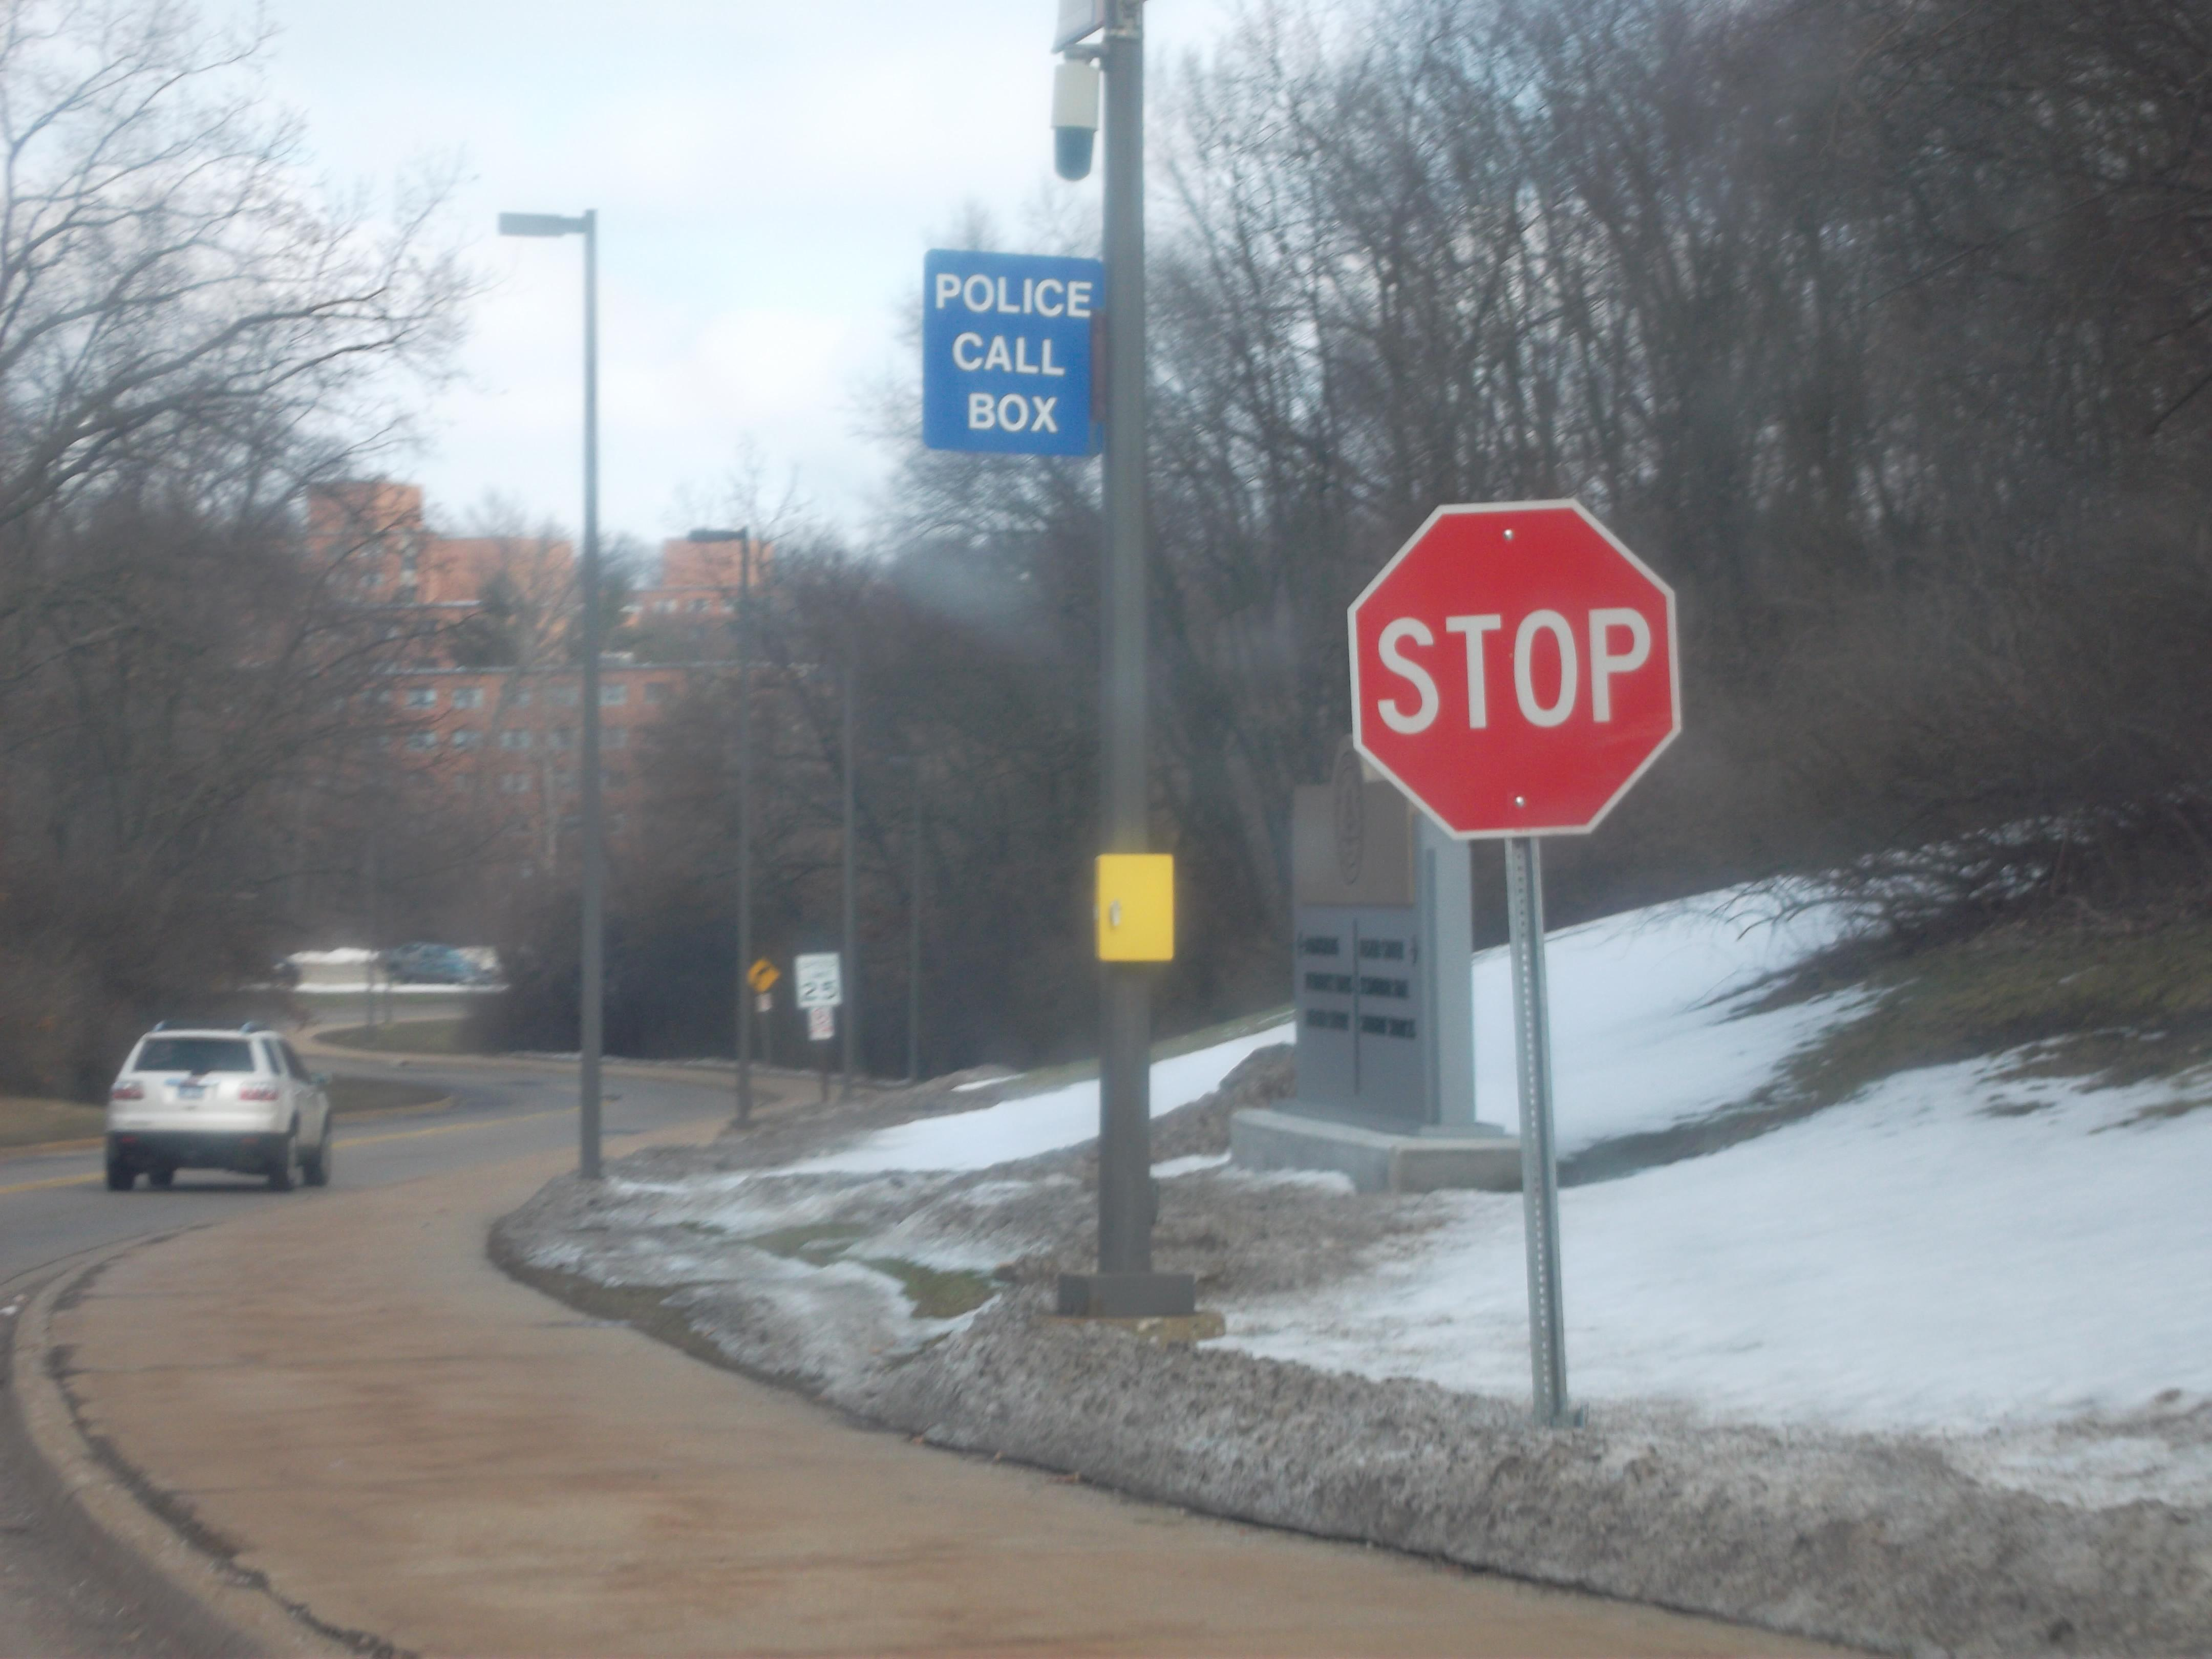regulatory: (792, 951, 845, 1007)
stop: (1341, 497, 1702, 845)
warning: (747, 955, 780, 995)
